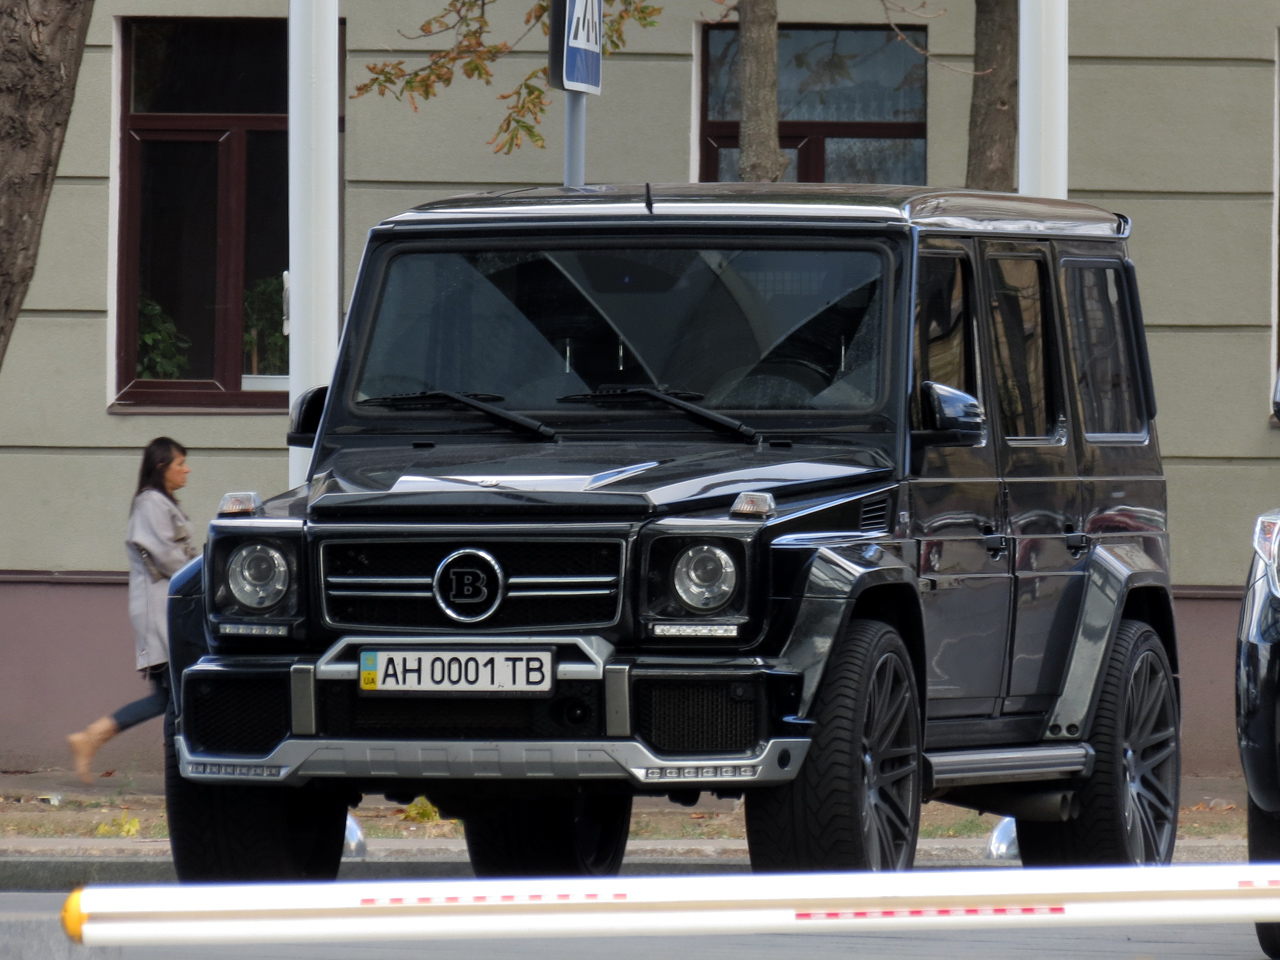car: (163, 180, 1185, 880)
plate: (362, 651, 553, 693)
